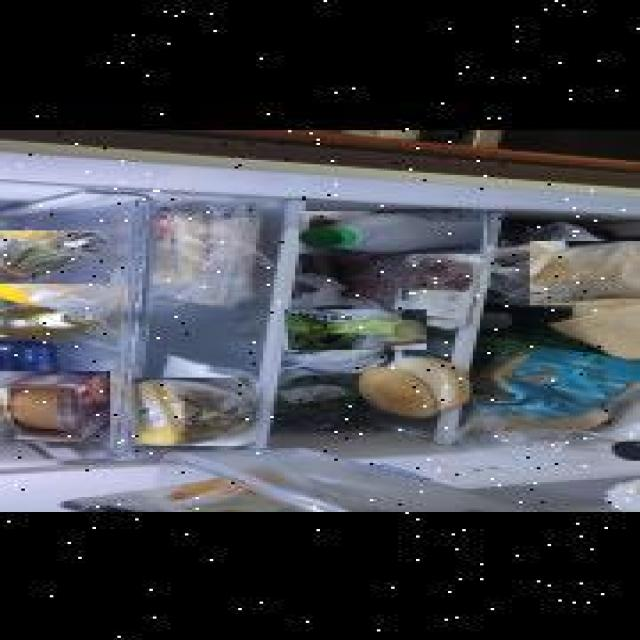asparagus: (0, 228, 107, 282)
bread: (530, 239, 640, 303)
broccoli: (284, 307, 426, 348)
humus: (0, 369, 110, 440), (0, 366, 53, 424)
lemon: (0, 271, 82, 303)
mayonaise: (0, 422, 64, 461)
milk: (299, 209, 487, 252)
pineapple: (132, 375, 256, 444)
tomato_sauce: (0, 201, 68, 243)
yogurt: (0, 332, 60, 373)
